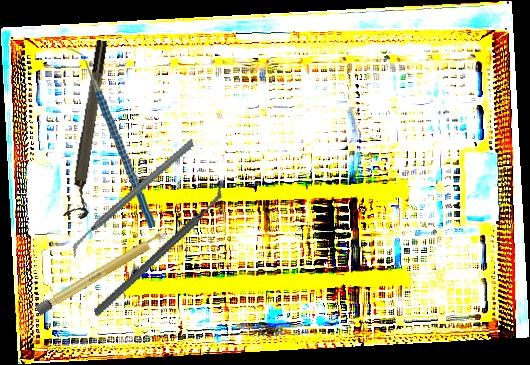Chopper: (67, 182, 250, 318), (50, 137, 216, 259), (67, 42, 156, 232)
Fixation Ring: (62, 39, 119, 220)
Scalpel Handle: (34, 229, 170, 316)
